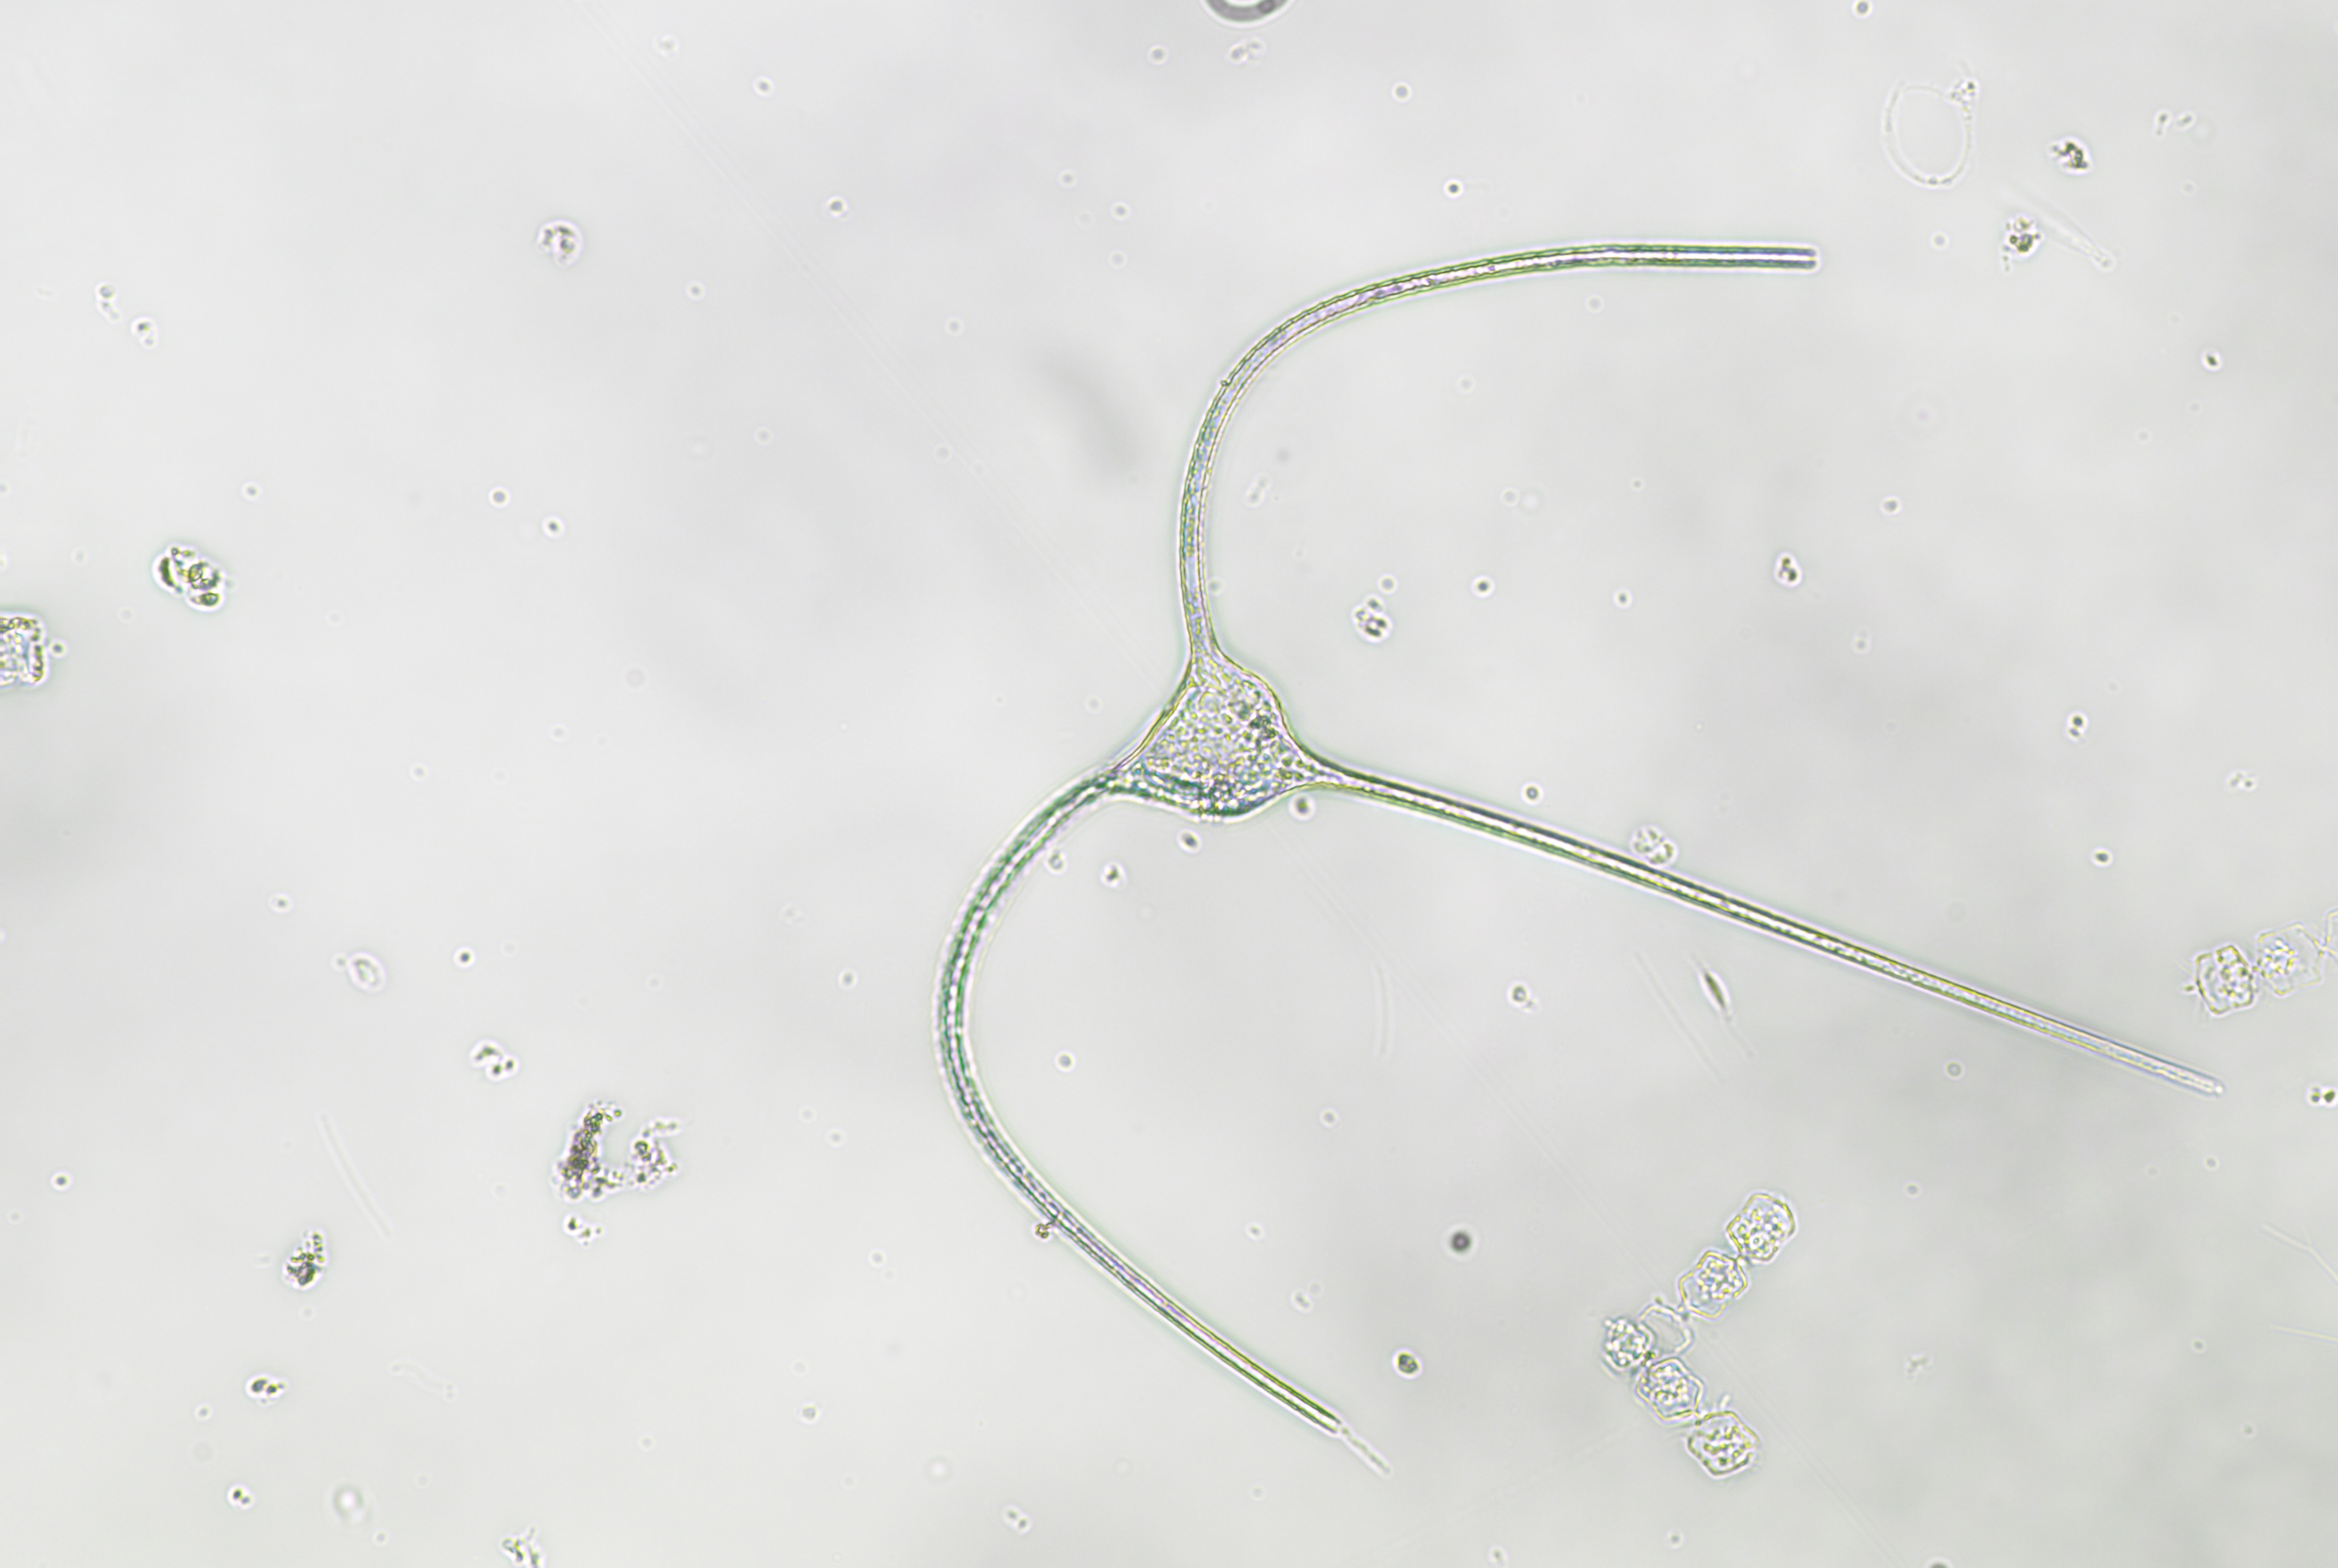ceratium trichoceros: (928, 145, 2238, 1461)
